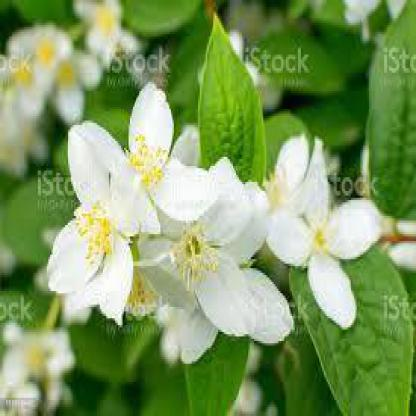Melati: (51, 81, 294, 354), (268, 126, 395, 335)
